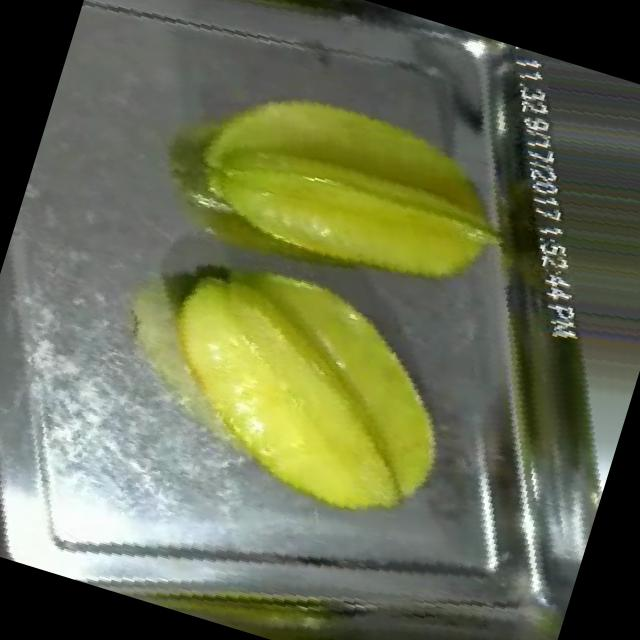fruit: (85, 186, 518, 591), (132, 10, 564, 390), (473, 50, 640, 293)
